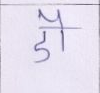ai_matra: (39, 8, 70, 27)
